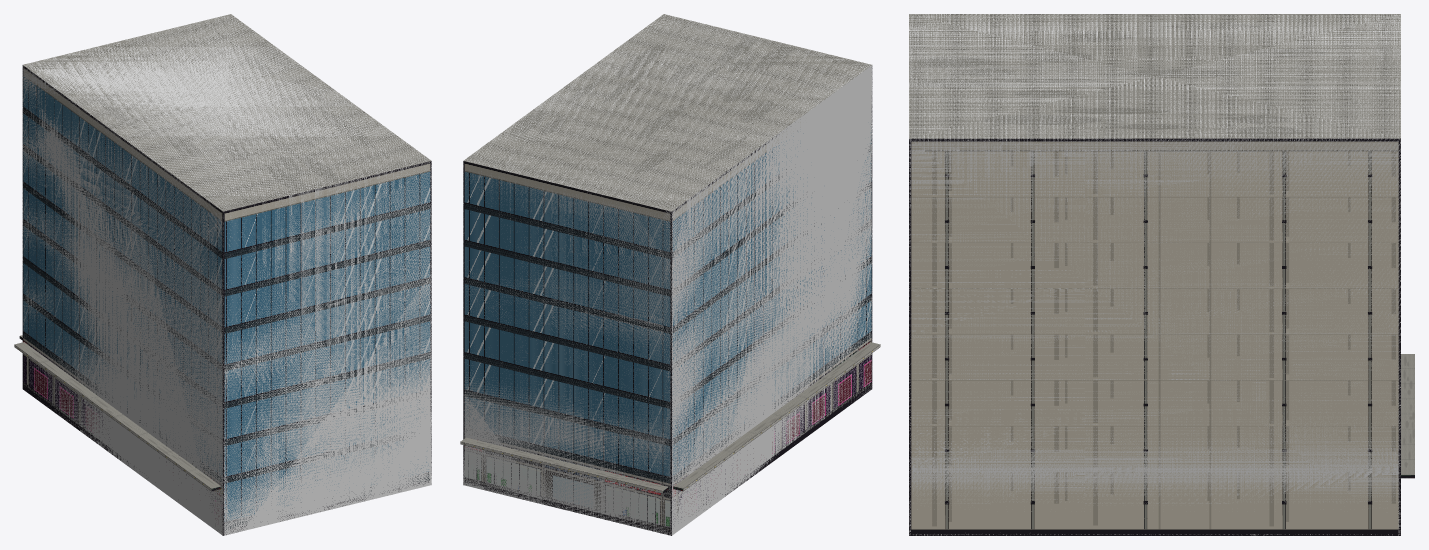
3 views of the same model, side by side, from view 1: azimuth 30°, elevation 25°; view 2: azimuth 150°, elevation 25°; view 3: azimuth 270°, elevation 25° (orthographic). The views are drawn at different scales.
Parts seen in each view (by area): view 1: COL_19D-P04a_0, 19D-P04a; view 2: 19D-P04a, COL_19D-P04a_0; view 3: 19D-P04a, COL_19D-P04a_0.
Part boxes in pixels (x1,y1,x2,y2): COL_19D-P04a_0: (22, 14, 431, 535); 19D-P04a: (14, 14, 431, 535); 19D-P04a: (460, 14, 880, 535); COL_19D-P04a_0: (463, 14, 872, 535); 19D-P04a: (909, 14, 1414, 535); COL_19D-P04a_0: (909, 14, 1400, 535).
Size of the model in its own units: 22 by 31.2 by 36.
1 material, 1 textured.
